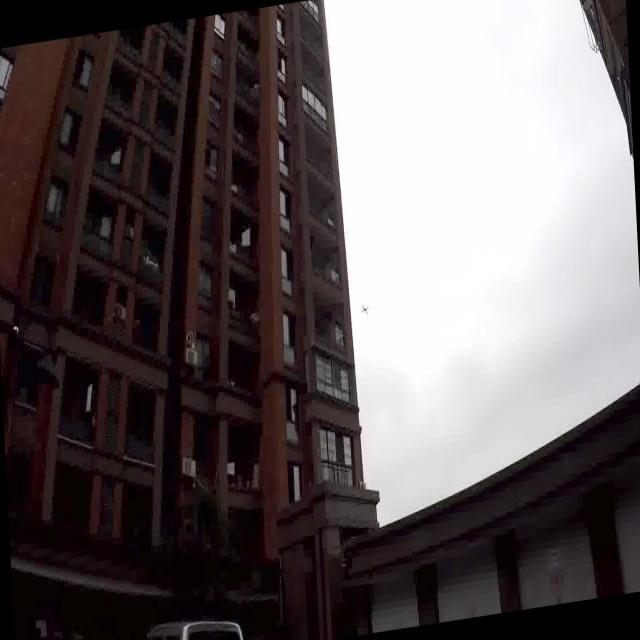drone: (357, 300, 371, 319)
